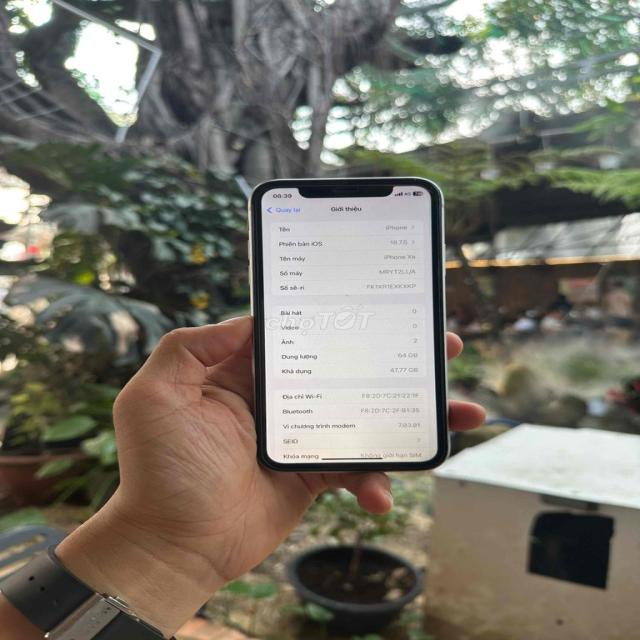gen_x_xs: (250, 177, 449, 473)
